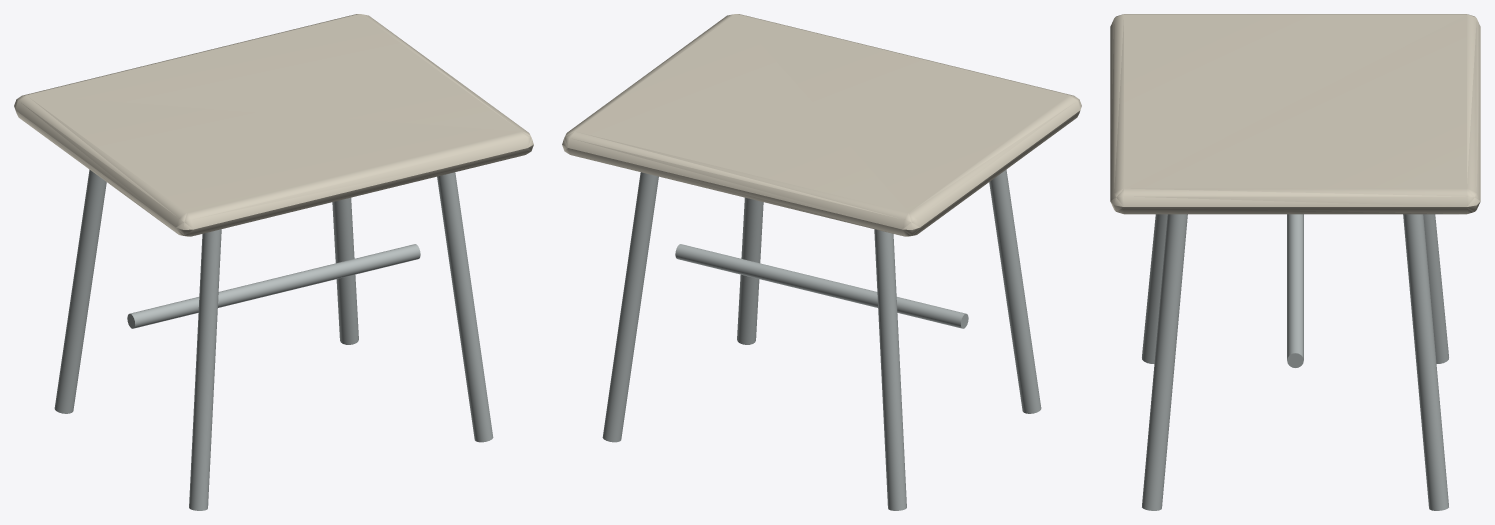
The model's file is 11_starter_table.glb.
3 views of the same model, side by side, from view 1: azimuth 30°, elevation 25°; view 2: azimuth 150°, elevation 25°; view 3: azimuth 270°, elevation 25° (orthographic). The views are drawn at different scales.
Parts seen in each view (by area): view 1: 11_starter_table__Static; view 2: 11_starter_table__Static; view 3: 11_starter_table__Static.
Part boxes in pixels (box(x1,y1,x2,y2)): 11_starter_table__Static: box(14, 14, 533, 510); 11_starter_table__Static: box(562, 14, 1081, 510); 11_starter_table__Static: box(1110, 14, 1480, 510).
Size of the model in its own units: 0.95 by 0.7929 by 0.8.
